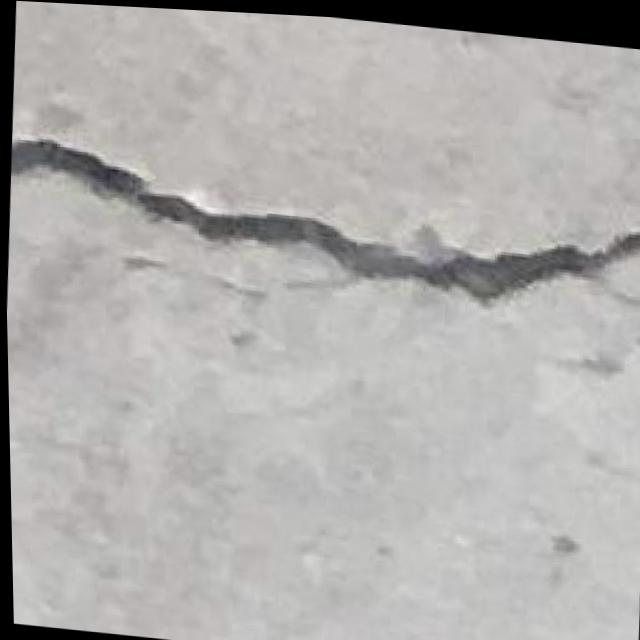Crack: (4, 127, 640, 324)
